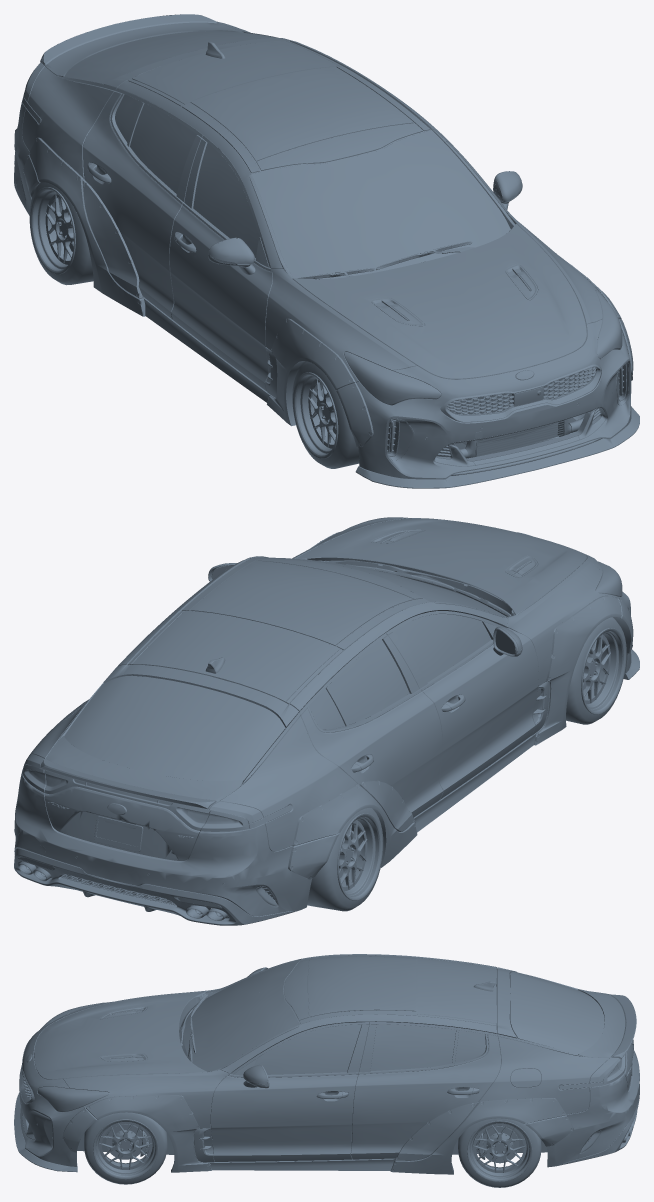
Rendered from kia_stinger-badge-debug.glb.
3 renders of one model, top to bottom at view 1: azimuth 30°, elevation 25°; view 2: azimuth 150°, elevation 25°; view 3: azimuth 270°, elevation 25°, orthographic. The views are drawn at different scales.
Parts seen in each view (by area): view 1: Material2 (×5), Material3 (×4); view 2: Material2 (×5), Material3 (×5); view 3: Material2 (×5), Material3 (×5).
Boxes of the visible parts, bbox=[...] form: Material2 (×5): bbox=[14, 14, 633, 479]; Material3 (×4): bbox=[14, 14, 639, 488]; Material2 (×5): bbox=[14, 517, 633, 919]; Material3 (×5): bbox=[14, 530, 639, 925]; Material2 (×5): bbox=[19, 954, 639, 1174]; Material3 (×5): bbox=[14, 955, 639, 1187].
Size of the model in its own units: 15017 by 9686 by 35075.
